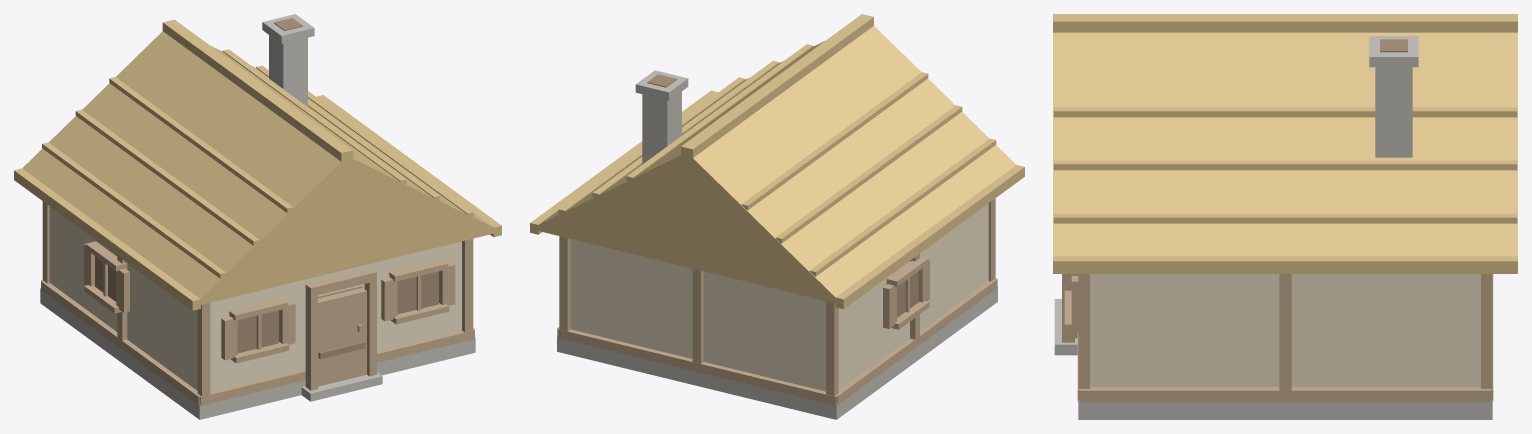
Rendered from house.glb.
3 renders of one model, left to right at view 1: azimuth 30°, elevation 25°; view 2: azimuth 150°, elevation 25°; view 3: azimuth 270°, elevation 25°, orthographic. The views are drawn at different scales.
Parts seen in each view (by area): view 1: house_roof, house_wood, house_plaster, house_stone, house_door, house_window; view 2: house_roof, house_plaster, house_wood, house_stone, house_window; view 3: house_roof, house_plaster, house_stone, house_wood.
Part boxes in pixels (x1,y1,x2,y2): house_roof: (14, 19, 501, 310); house_wood: (41, 201, 474, 405); house_plaster: (49, 206, 461, 391); house_stone: (40, 14, 475, 419); house_door: (318, 287, 366, 386); house_window: (95, 18, 438, 359); house_roof: (530, 14, 1024, 309); house_plaster: (570, 203, 988, 391); house_wood: (557, 198, 997, 405); house_stone: (557, 70, 997, 419); house_window: (647, 74, 918, 317); house_roof: (1053, 14, 1517, 273); house_plaster: (1090, 274, 1480, 387); house_stone: (1054, 36, 1492, 419); house_wood: (1062, 274, 1493, 401).
Size of the model in its own units: 2 by 1.58 by 2.
